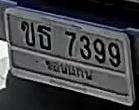number: (19, 17, 122, 67)
province: (43, 57, 93, 82)
